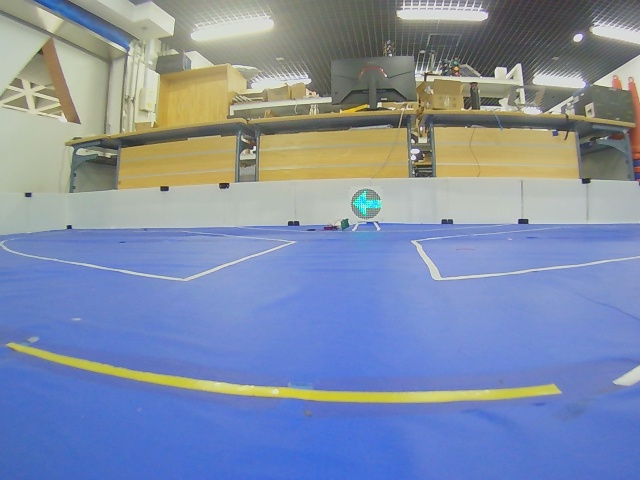left_green: (351, 188, 382, 220)
